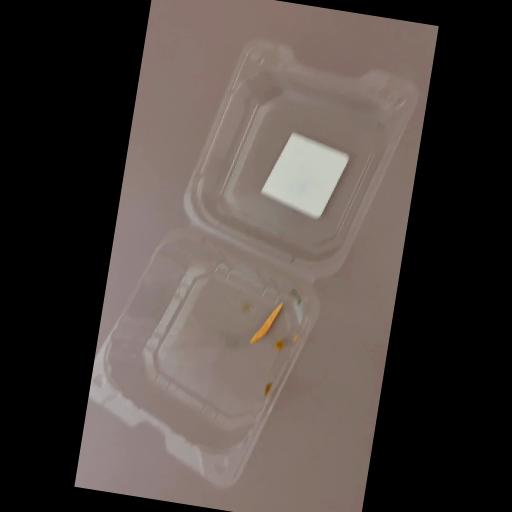small_plastic_container: (80, 224, 326, 494), (172, 32, 420, 282)
